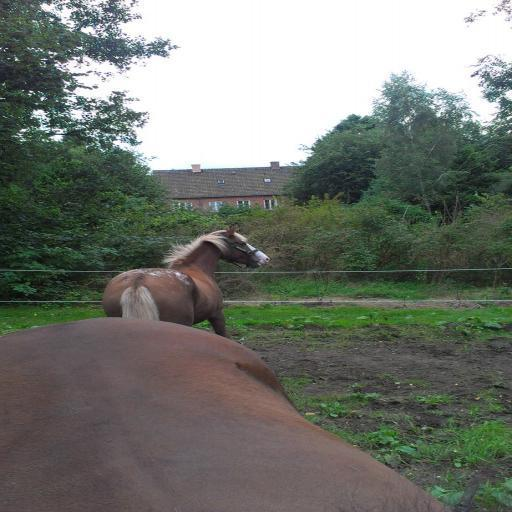horse: (0, 316, 451, 512), (104, 224, 274, 338)
